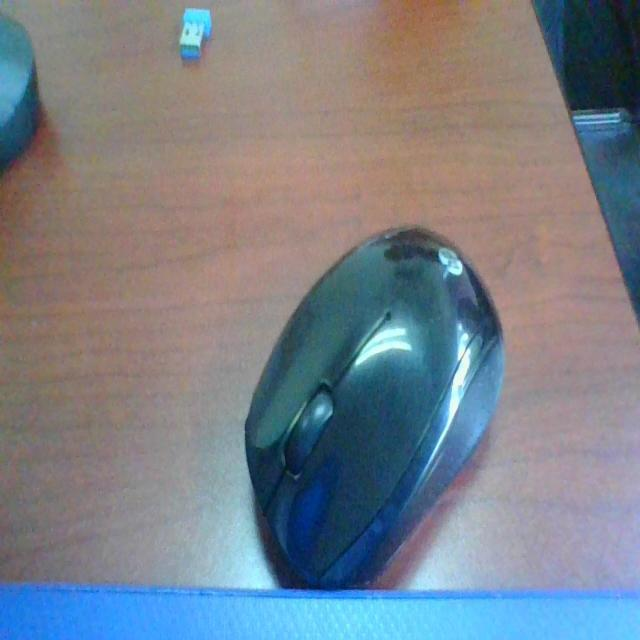mouse: (237, 182, 566, 579)
